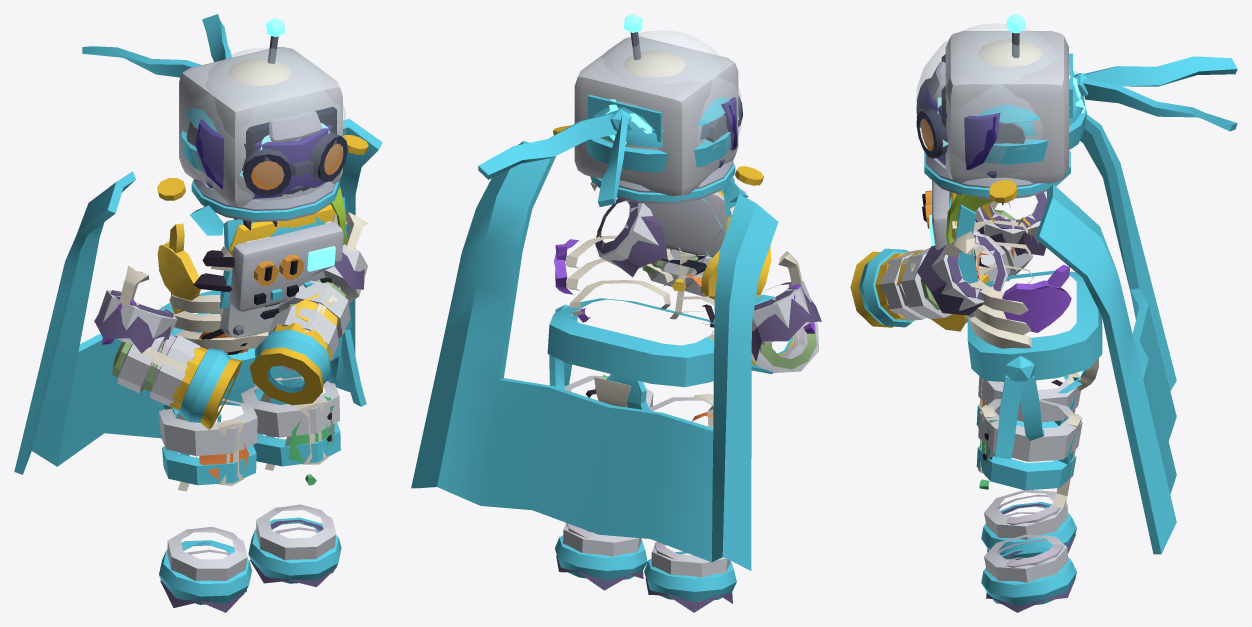
File: cosmetic_outfits_a.glb
3 views of the same model, side by side, from view 1: azimuth 30°, elevation 25°; view 2: azimuth 150°, elevation 25°; view 3: azimuth 270°, elevation 25° (orthographic).
Visible parts, largest first — view 1: SUPERHERO_Body, ASTRONAUT_Head, ROBOT_Head, ASTRONAUT_Body, ROBOT_Body, ROBOT_LegR, ROBOT_LegL, ZOMBIE_Body, SKELETON_Body, NINJA_Head, PAINTBALL_SPLATTER_Head, PAINTBALL_SPLATTER_Body (+11 smaller); view 2: SUPERHERO_Body, ROBOT_Head, ASTRONAUT_Head, NINJA_Body, ZOMBIE_Body, NINJA_Head, ROBOT_Body, SKELETON_Body, ASTRONAUT_Body, PAINTBALL_SPLATTER_Body, PAINTBALL_SPLATTER_Head, ASTRONAUT_LegR (+5 smaller); view 3: SUPERHERO_Body, ASTRONAUT_Head, ROBOT_Head, NINJA_Body, ROBOT_LegL, NINJA_Head, ZOMBIE_Body, ROBOT_Body, SKELETON_Body, ROBOT_LegR, PAINTBALL_SPLATTER_Body, PAINTBALL_SPLATTER_Head (+9 smaller).
Boxes of the visible parts, <box> form: SUPERHERO_Body: <box>14,118,382,474</box>; ASTRONAUT_Head: <box>185,48,345,221</box>; ROBOT_Head: <box>179,18,342,206</box>; ASTRONAUT_Body: <box>179,222,343,422</box>; ROBOT_Body: <box>99,221,367,407</box>; ROBOT_LegR: <box>159,399,257,581</box>; ROBOT_LegL: <box>241,376,340,560</box>; ZOMBIE_Body: <box>94,187,364,391</box>; SKELETON_Body: <box>118,212,367,371</box>; NINJA_Head: <box>82,14,321,196</box>; PAINTBALL_SPLATTER_Head: <box>181,131,347,196</box>; PAINTBALL_SPLATTER_Body: <box>102,205,337,353</box>; SUPERHERO_Body: <box>411,125,794,570</box>; ROBOT_Head: <box>574,14,738,196</box>; ASTRONAUT_Head: <box>590,30,740,204</box>; NINJA_Body: <box>547,258,807,389</box>; ZOMBIE_Body: <box>596,177,821,369</box>; NINJA_Head: <box>478,97,729,206</box>; ROBOT_Body: <box>595,192,818,372</box>; SKELETON_Body: <box>565,182,805,407</box>; ASTRONAUT_Body: <box>629,189,792,373</box>; PAINTBALL_SPLATTER_Body: <box>554,179,815,410</box>; PAINTBALL_SPLATTER_Head: <box>585,94,742,172</box>; ASTRONAUT_LegR: <box>644,551,736,601</box>; SUPERHERO_Body: <box>850,114,1176,554</box>; ASTRONAUT_Head: <box>916,23,1078,199</box>; ROBOT_Head: <box>937,14,1072,183</box>; NINJA_Body: <box>898,231,1102,459</box>; ROBOT_LegL: <box>976,399,1082,582</box>; NINJA_Head: <box>928,56,1237,178</box>; ZOMBIE_Body: <box>917,185,1047,315</box>; ROBOT_Body: <box>880,191,1046,320</box>; SKELETON_Body: <box>900,201,1098,391</box>; ROBOT_LegR: <box>976,374,1080,539</box>; PAINTBALL_SPLATTER_Body: <box>892,191,1085,393</box>; PAINTBALL_SPLATTER_Head: <box>916,78,1086,164</box>.
Bounding box in the file's own units: 0.9373 × 1.5 × 0.9107.
